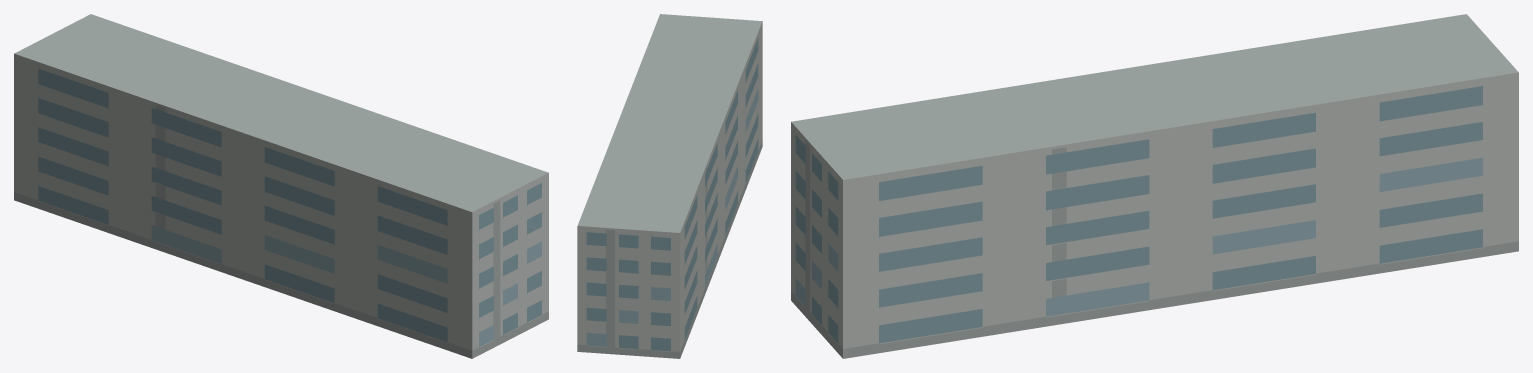
File: residential-a485d17e-4477-4236-b7f0-9f74d69d4ef8.glb
3 views of the same model, side by side, from view 1: azimuth 30°, elevation 25°; view 2: azimuth 150°, elevation 25°; view 3: azimuth 270°, elevation 25° (orthographic). The views are drawn at different scales.
Visible parts, largest first — view 1: residential-a485d17e-4477-4236-b7f0-9f74d69d4ef8.tmp; view 2: residential-a485d17e-4477-4236-b7f0-9f74d69d4ef8.tmp; view 3: residential-a485d17e-4477-4236-b7f0-9f74d69d4ef8.tmp.
Boxes of the visible parts, left/top/right/bottom form: residential-a485d17e-4477-4236-b7f0-9f74d69d4ef8.tmp: left=14, top=14, right=548, bottom=358; residential-a485d17e-4477-4236-b7f0-9f74d69d4ef8.tmp: left=577, top=14, right=762, bottom=358; residential-a485d17e-4477-4236-b7f0-9f74d69d4ef8.tmp: left=791, top=14, right=1518, bottom=358.
Size of the model in its own units: 30.36 by 15.25 by 56.23.
